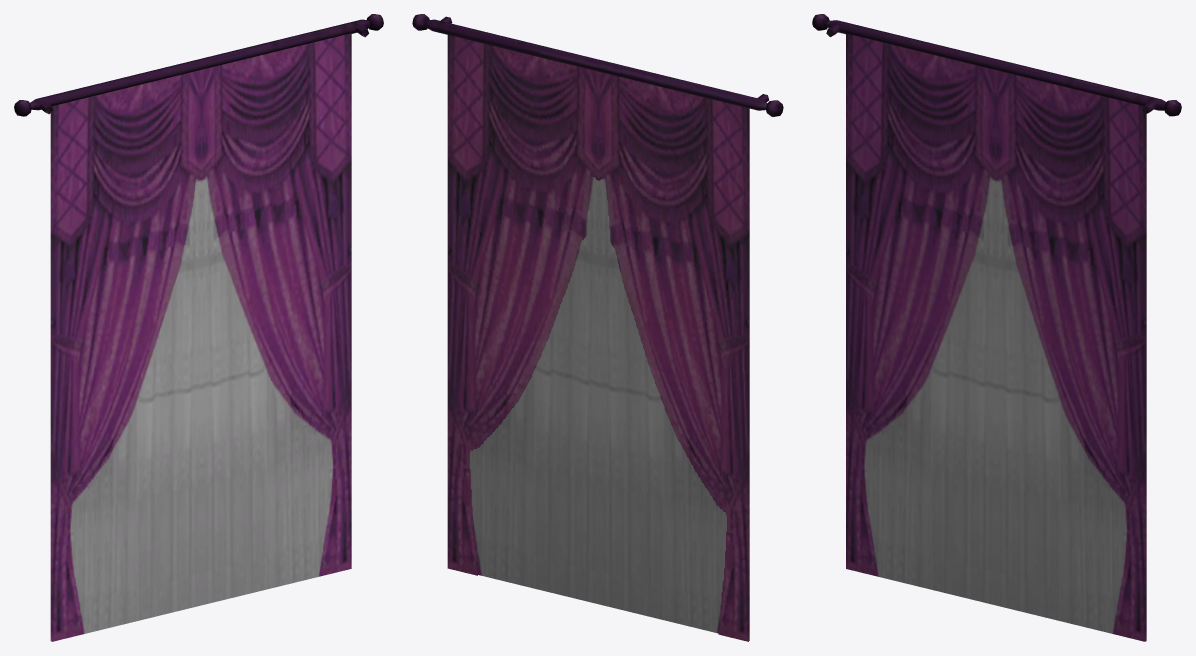
The model's file is furni_0201231_02.FBX.
3 renders of one model, left to right at view 1: azimuth 30°, elevation 25°; view 2: azimuth 150°, elevation 25°; view 3: azimuth 330°, elevation 25°, orthographic.
Visible parts, largest first — view 1: furni_0201231_02; view 2: furni_0201231_02; view 3: furni_0201231_02.
Boxes of the visible parts, <box> form: furni_0201231_02: <box>14,14,383,641</box>; furni_0201231_02: <box>412,14,783,641</box>; furni_0201231_02: <box>812,14,1181,641</box>.
Size of the model in its own units: 197 by 279 by 12.24.
